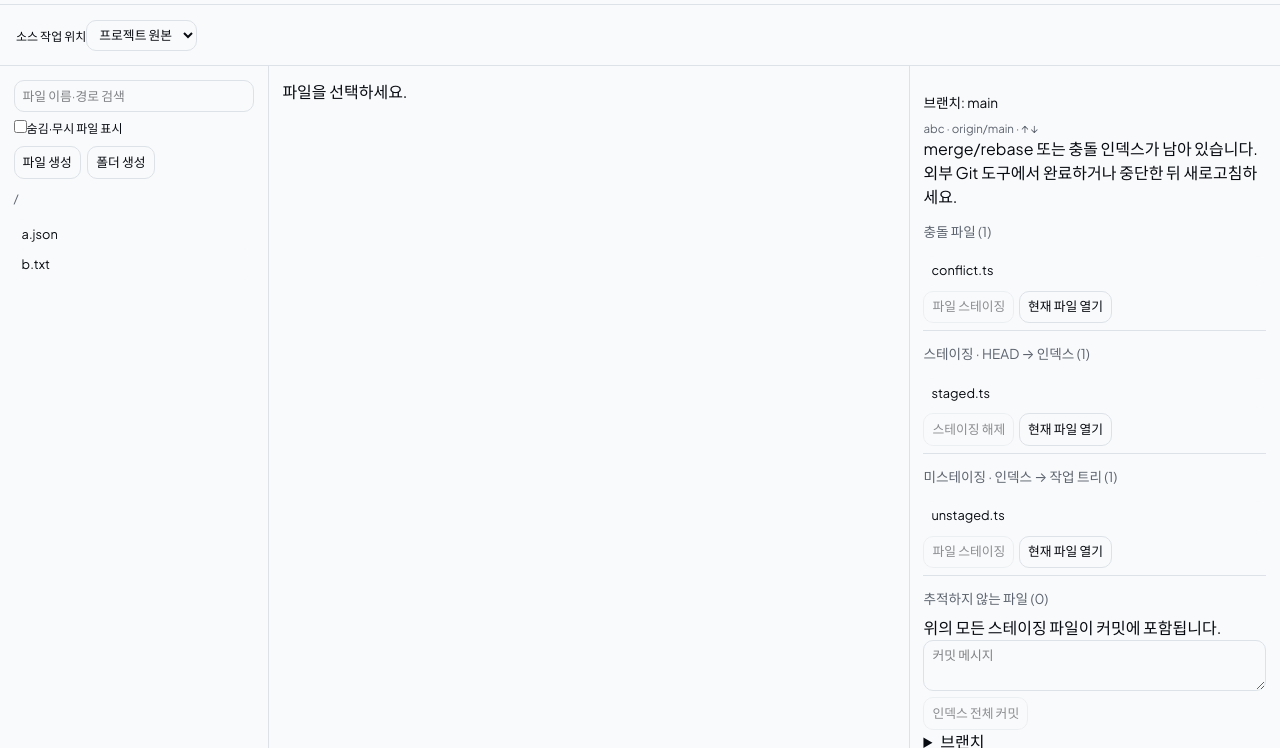
Test: locks all Git mutations while leaving file editing available during cleanup (null)
This screenshot has width=1280, height=748.
Expected: the text "merge/rebase 또는 충돌 인덱스가 남아 있습니다. 외부 Git 도구에서 완료하거나 중단한 뒤 새로고침하세요." is shown, [923, 137, 1266, 209]
In the text box labelled "커밋 메시지": (1095,666) [923, 640, 1266, 692], type "commit"
(page scrolled)
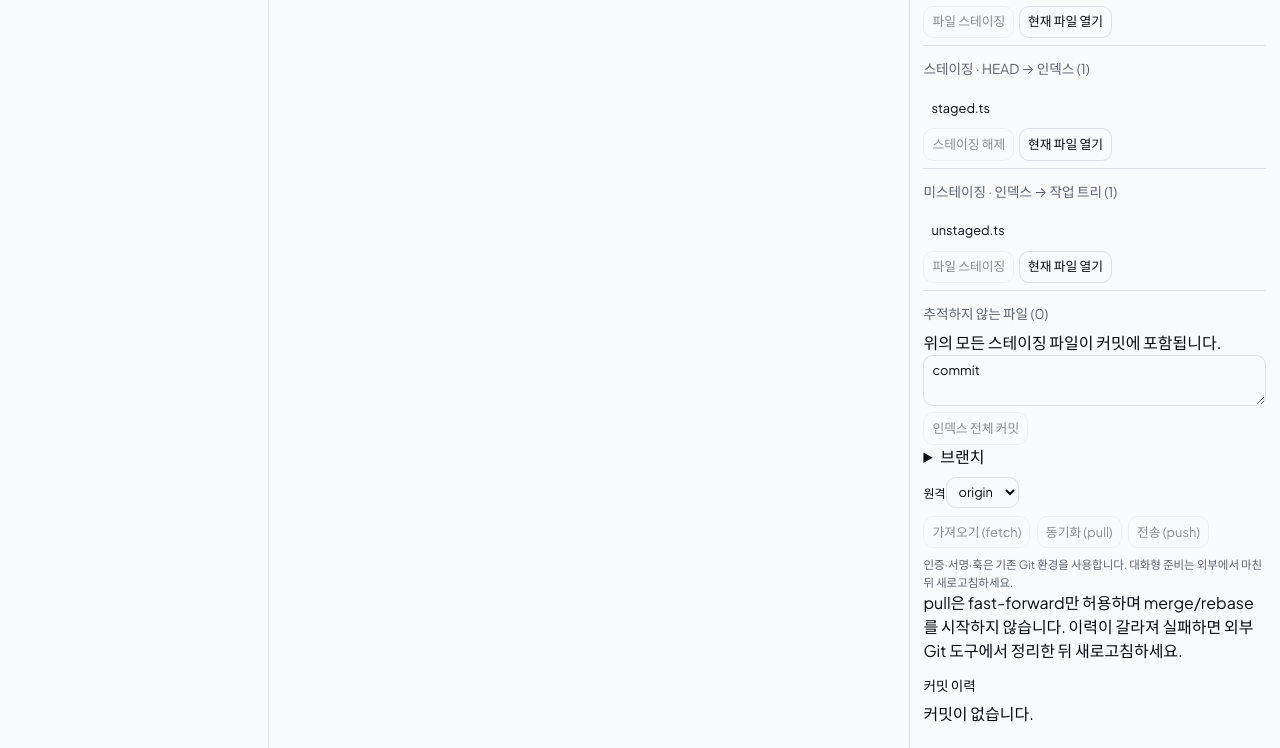
Replace the text in the field named "새 브랜치 이름" with "feature": (962,456) [940, 446, 984, 467]
(page scrolled)
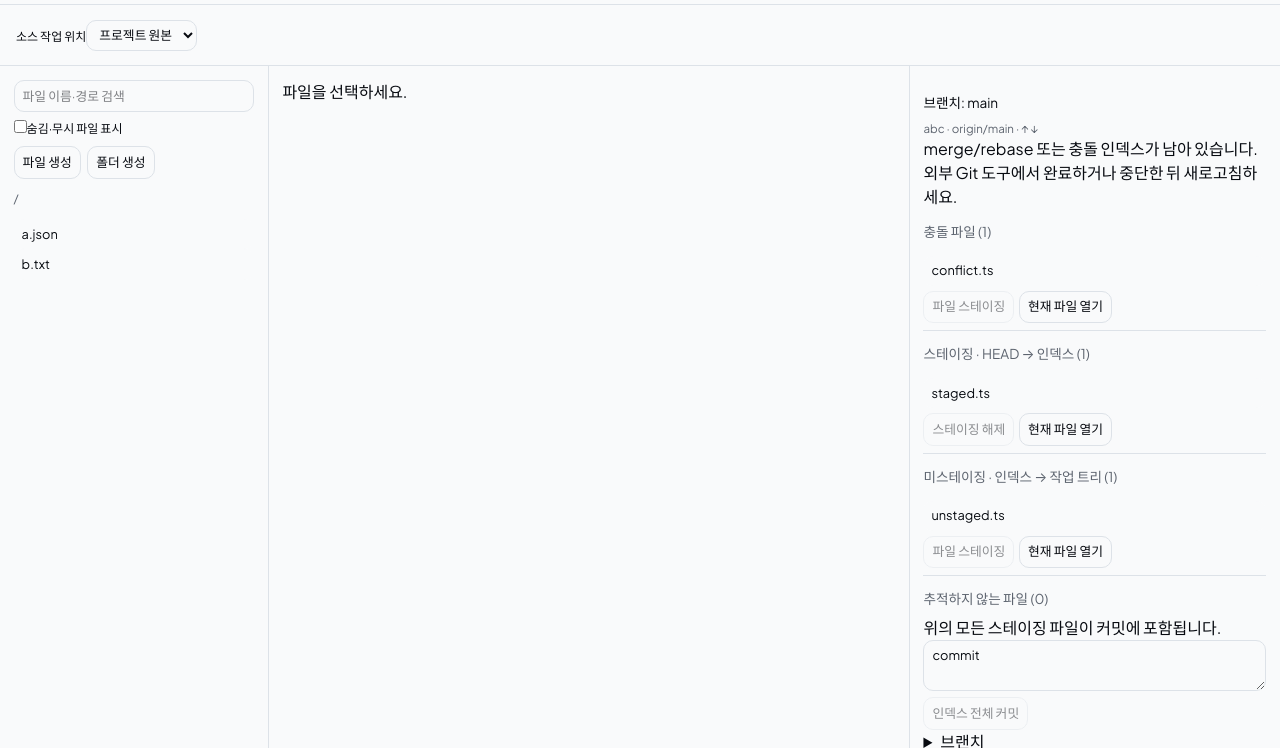
Expected: the button "파일 스테이징" below "충돌 파일" is disabled, [923, 291, 1014, 323]
Expected: the button "파일 스테이징" below "미스테이징 · 인덱스 → 작업 트리" is disabled, [923, 536, 1014, 568]
Click the button "a.json": (134,234) [14, 219, 254, 250]
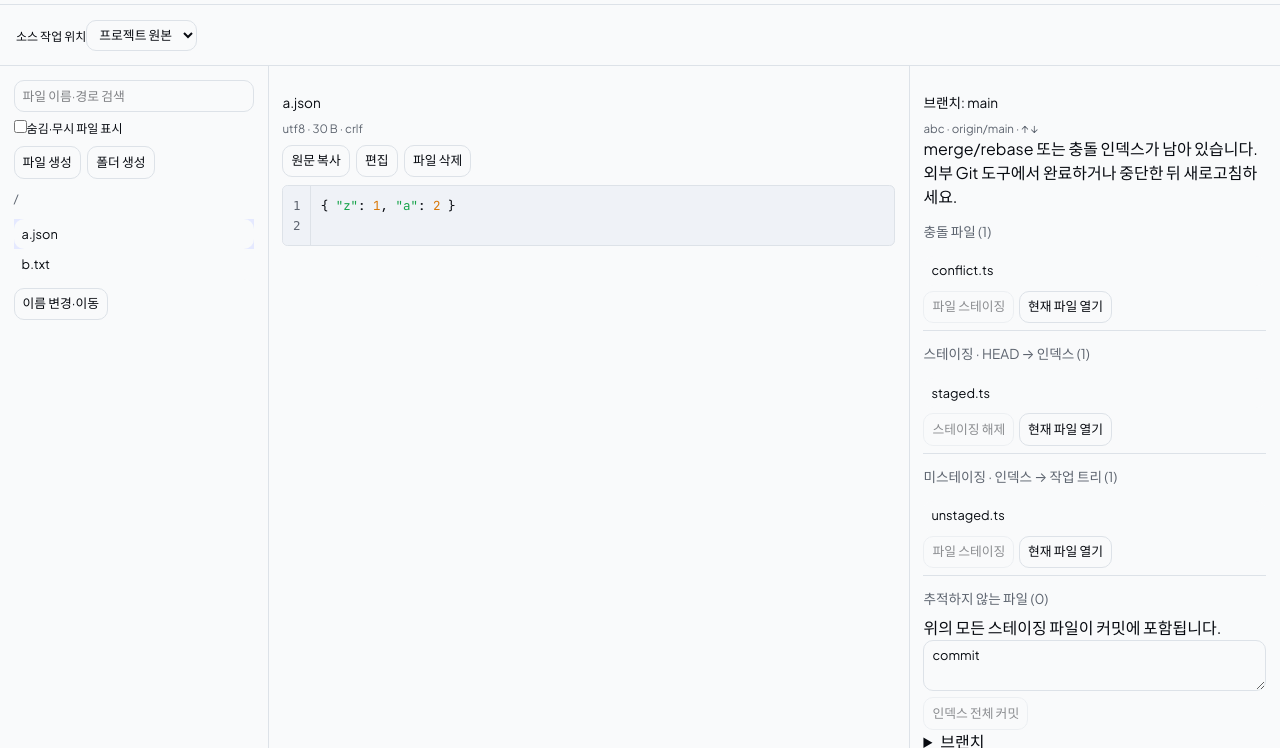
Click the button "편집": (377,161) [356, 145, 398, 177]
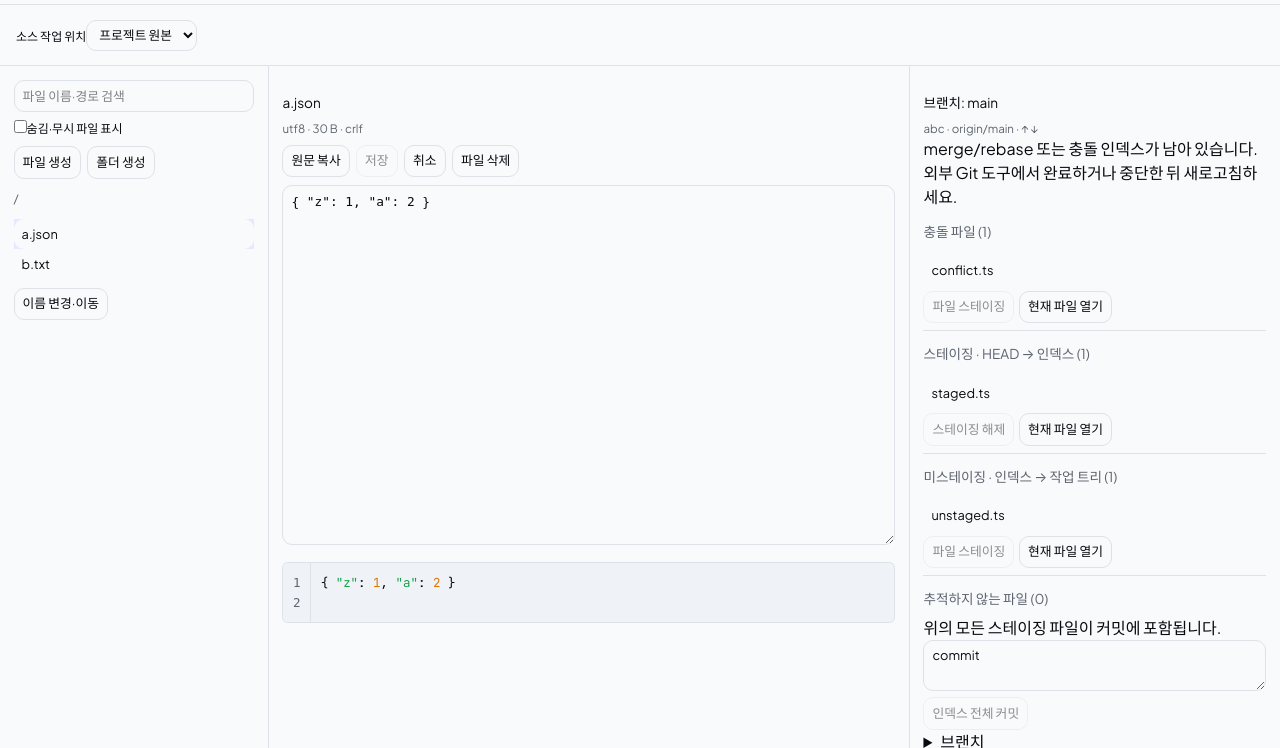
Replace the text in the text box named "파일 내용" with "edited during cleanup": (589,365) [282, 185, 895, 545]
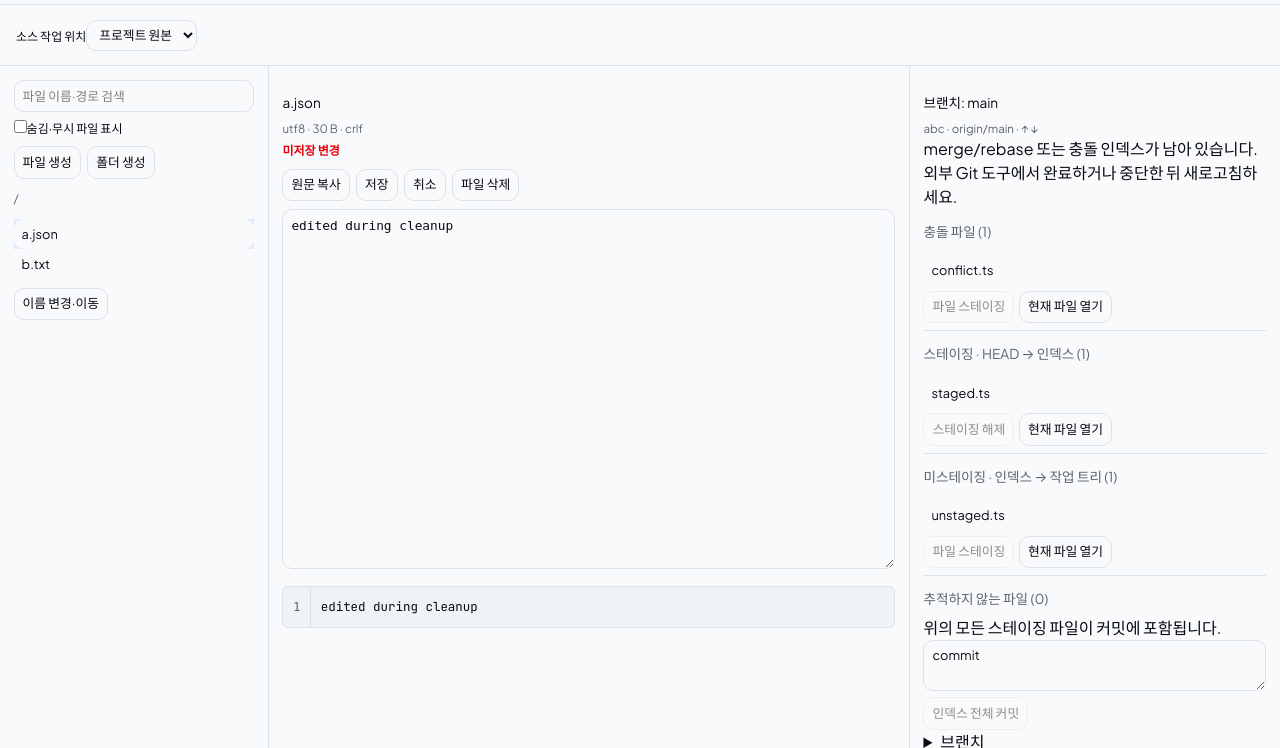
Expected: the button "파일 삭제" is enabled, [452, 169, 519, 201]
Expected: the button "이름 변경·이동" is enabled, [14, 288, 108, 320]
Expected: the button "저장" is enabled, [356, 169, 398, 201]
